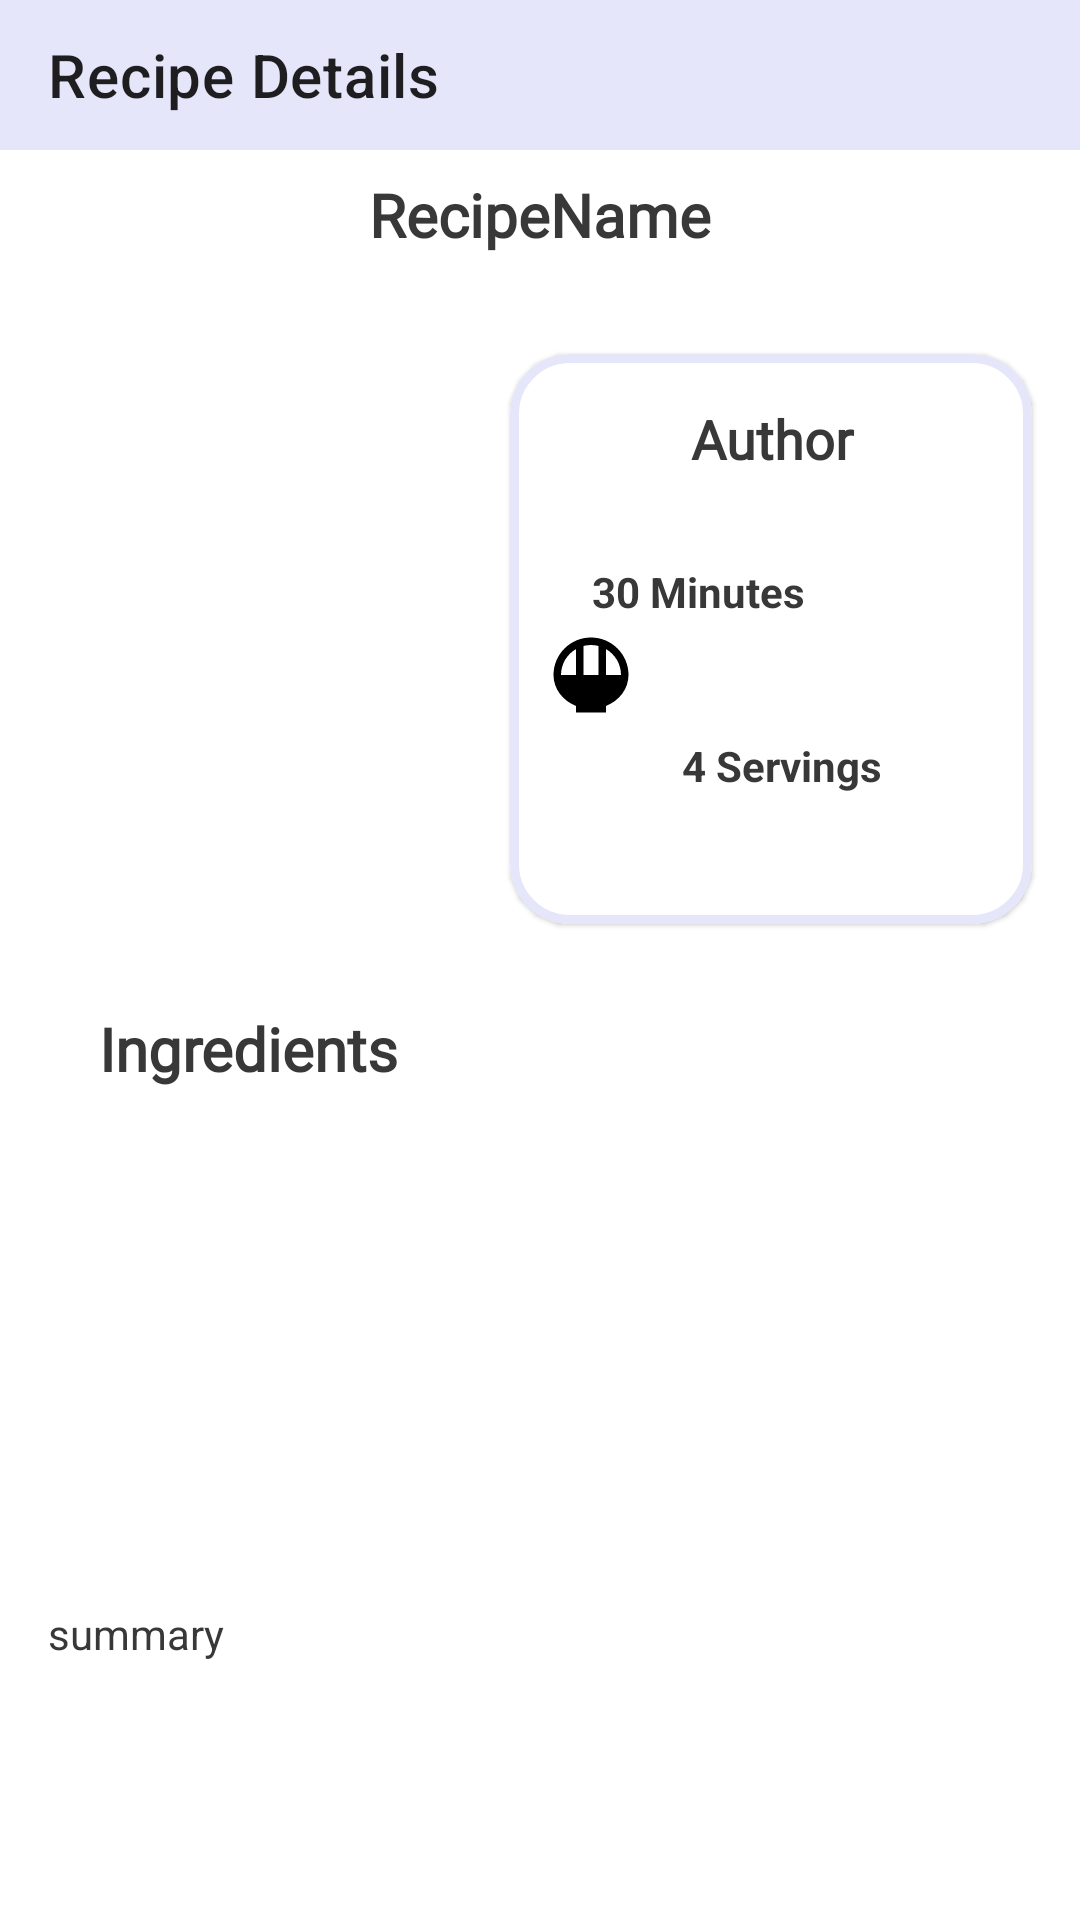

Named icons in this screenshot (1080px x 1920px) and their bounding boxes, (x1, y1, x2, y2):
rice bowl: (553, 637, 629, 713)
